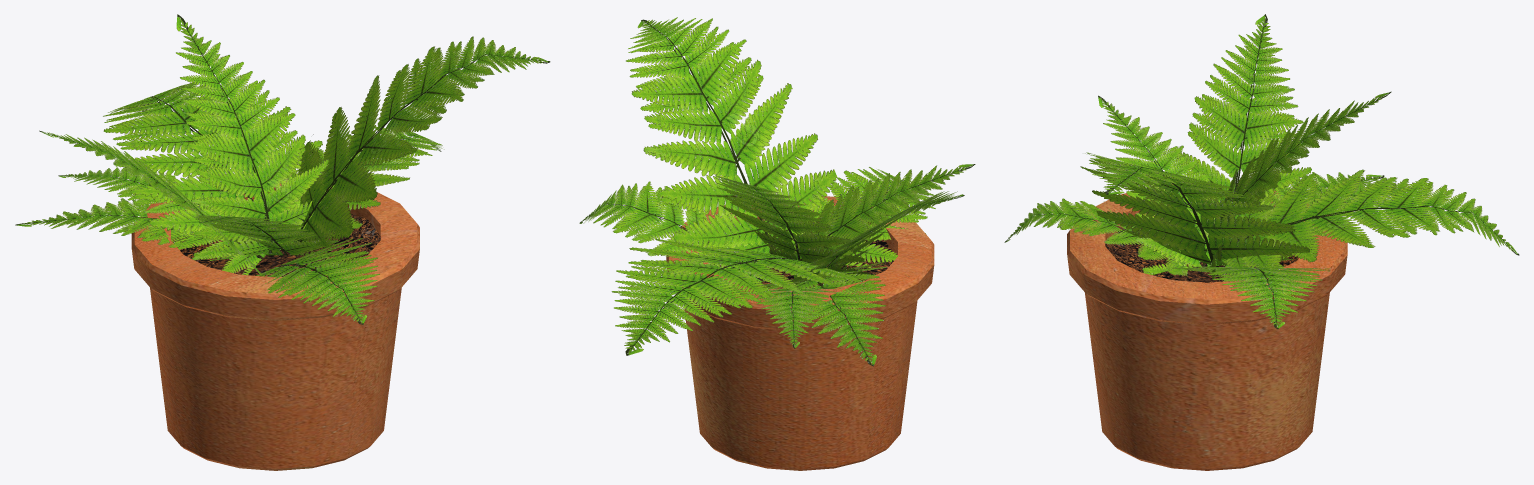
File: Fern Plant.fbx
3 views of the same model, side by side, from view 1: azimuth 30°, elevation 25°; view 2: azimuth 150°, elevation 25°; view 3: azimuth 270°, elevation 25° (orthographic). The views are drawn at different scales.
Parts seen in each view (by area): view 1: Line001; view 2: Line001; view 3: Line001.
Boxes of the visible parts, left/top/right/bottom form: Line001: left=15, top=14, right=550, bottom=470; Line001: left=579, top=17, right=975, bottom=470; Line001: left=1004, top=14, right=1519, bottom=470.
Size of the model in its own units: 99.98 by 79.96 by 107.
